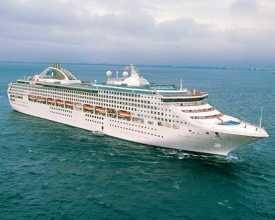youlun: (4, 53, 271, 159)
